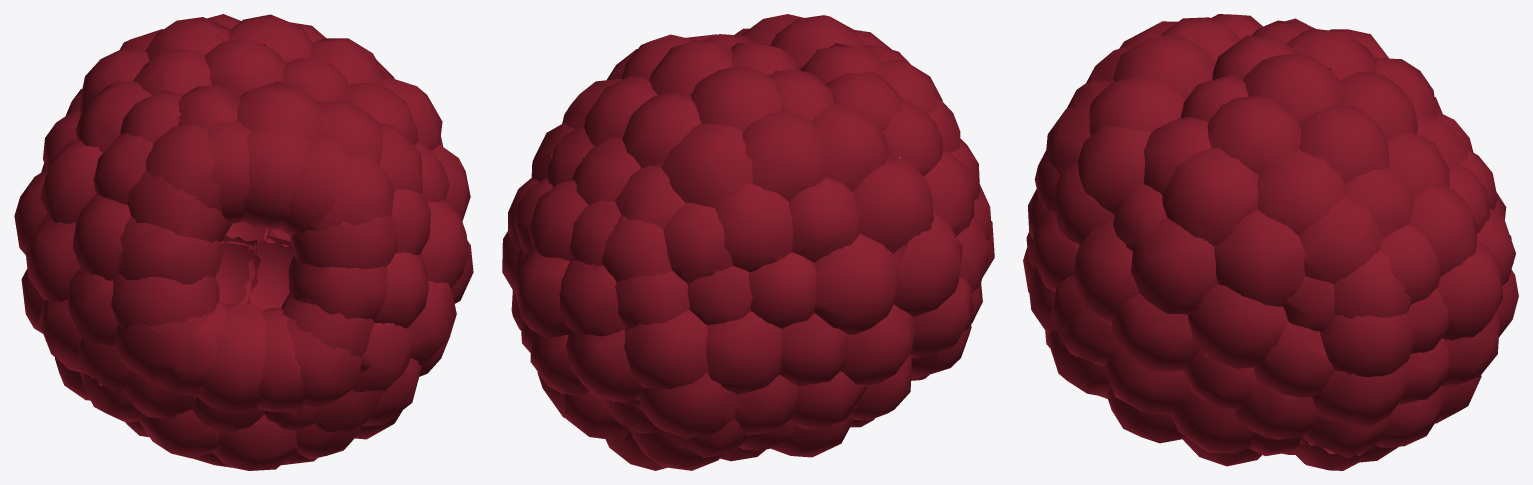
The model's file is candle_raspberry_v2.glb.
3 renders of one model, left to right at view 1: azimuth 30°, elevation 25°; view 2: azimuth 150°, elevation 25°; view 3: azimuth 270°, elevation 25°, orthographic.
Parts seen in each view (by area): view 1: Icosphere.086; view 2: Icosphere.086; view 3: Icosphere.086.
Part boxes in pixels (box(x1,y1,x2,y2)): Icosphere.086: box(14, 14, 473, 470); Icosphere.086: box(502, 14, 994, 470); Icosphere.086: box(1023, 14, 1518, 470).
Size of the model in its own units: 0.1851 by 0.1753 by 0.1964.
